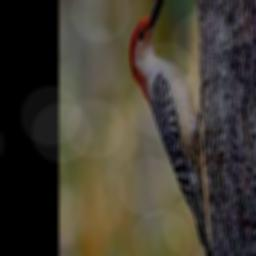Woodpecker: (129, 0, 215, 256)
